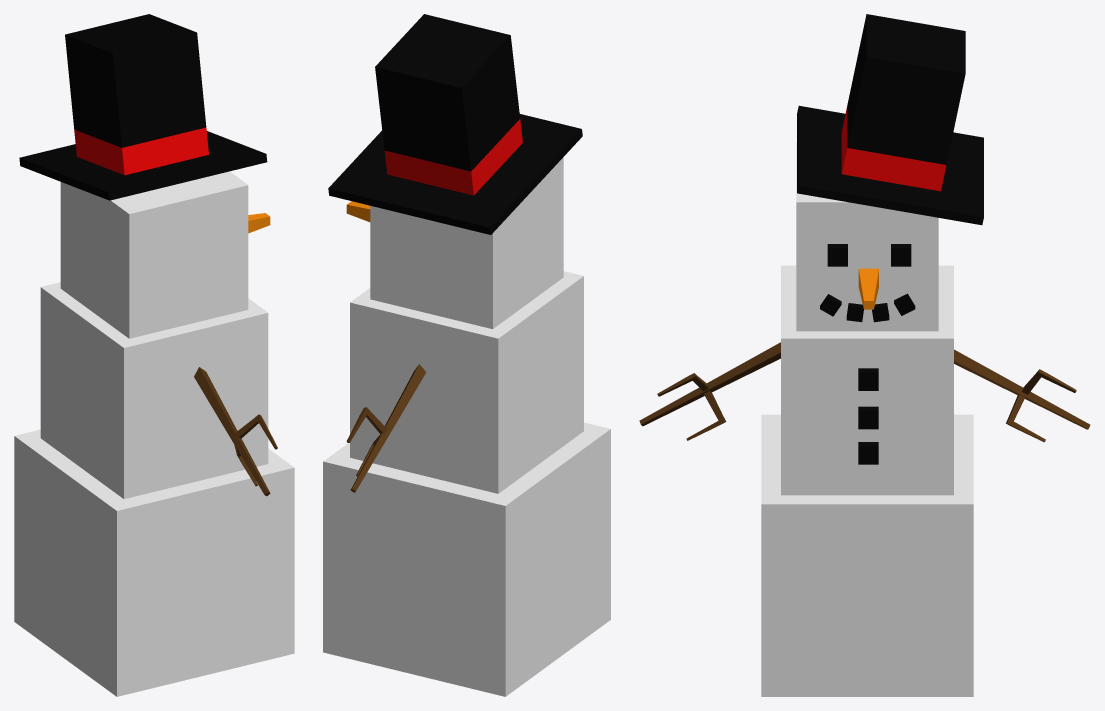
Rendered from Snowman_01.fbx.
The picture shows the model from 3 angles, left to right: view 1: azimuth 30°, elevation 25°; view 2: azimuth 150°, elevation 25°; view 3: azimuth 270°, elevation 25°; orthographic projection. The views are drawn at different scales.
Visible parts, largest first — view 1: Snowman_01; view 2: Snowman_01; view 3: Snowman_01.
Part boxes in pixels (box(x1,y1,x2,y2)): Snowman_01: box(14, 14, 294, 696); Snowman_01: box(323, 14, 610, 696); Snowman_01: box(639, 14, 1090, 696).
Size of the model in its own units: 0.1145 by 0.3212 by 0.213.
